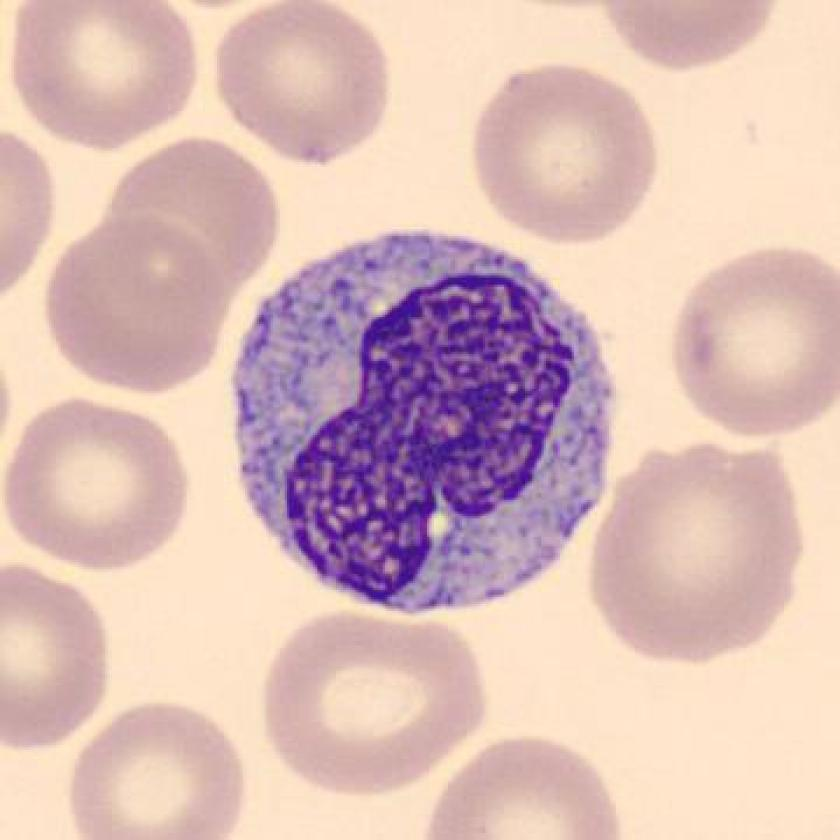monocyte: (218, 209, 640, 635)
